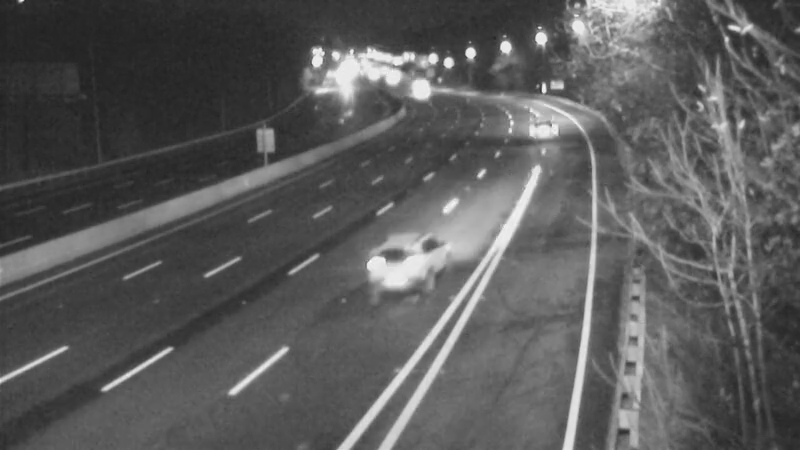vehicle: (353, 219, 433, 299), (384, 59, 434, 109), (396, 70, 446, 120), (518, 103, 568, 153)
